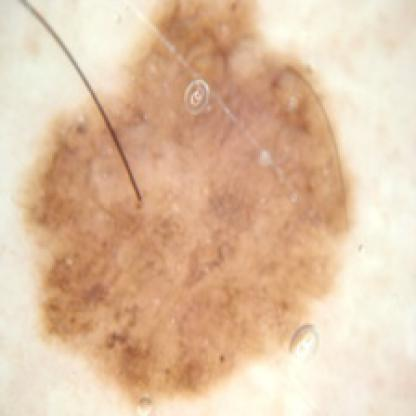malignant: (39, 17, 358, 371)
